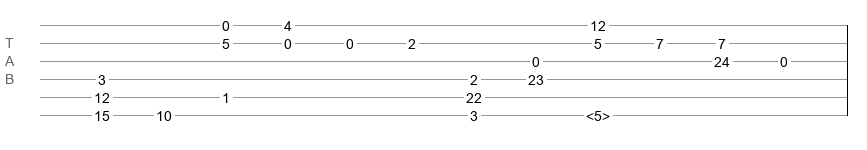0: (222, 18, 230, 28), (284, 36, 292, 46), (346, 36, 354, 46), (532, 54, 540, 64), (780, 54, 788, 64)
1: (222, 90, 230, 100)
10: (156, 108, 172, 118)
12: (94, 90, 110, 100), (590, 18, 606, 28)
15: (94, 108, 110, 118)
2: (408, 36, 416, 46), (470, 72, 478, 82)
22: (466, 90, 482, 100)
23: (528, 72, 544, 82)
24: (714, 54, 730, 64)
3: (98, 72, 106, 82), (470, 108, 478, 118)
4: (284, 18, 292, 28)
5: (222, 36, 230, 46), (594, 36, 602, 46)
7: (656, 36, 664, 46), (718, 36, 726, 46)
harmonic: (586, 108, 610, 118)
